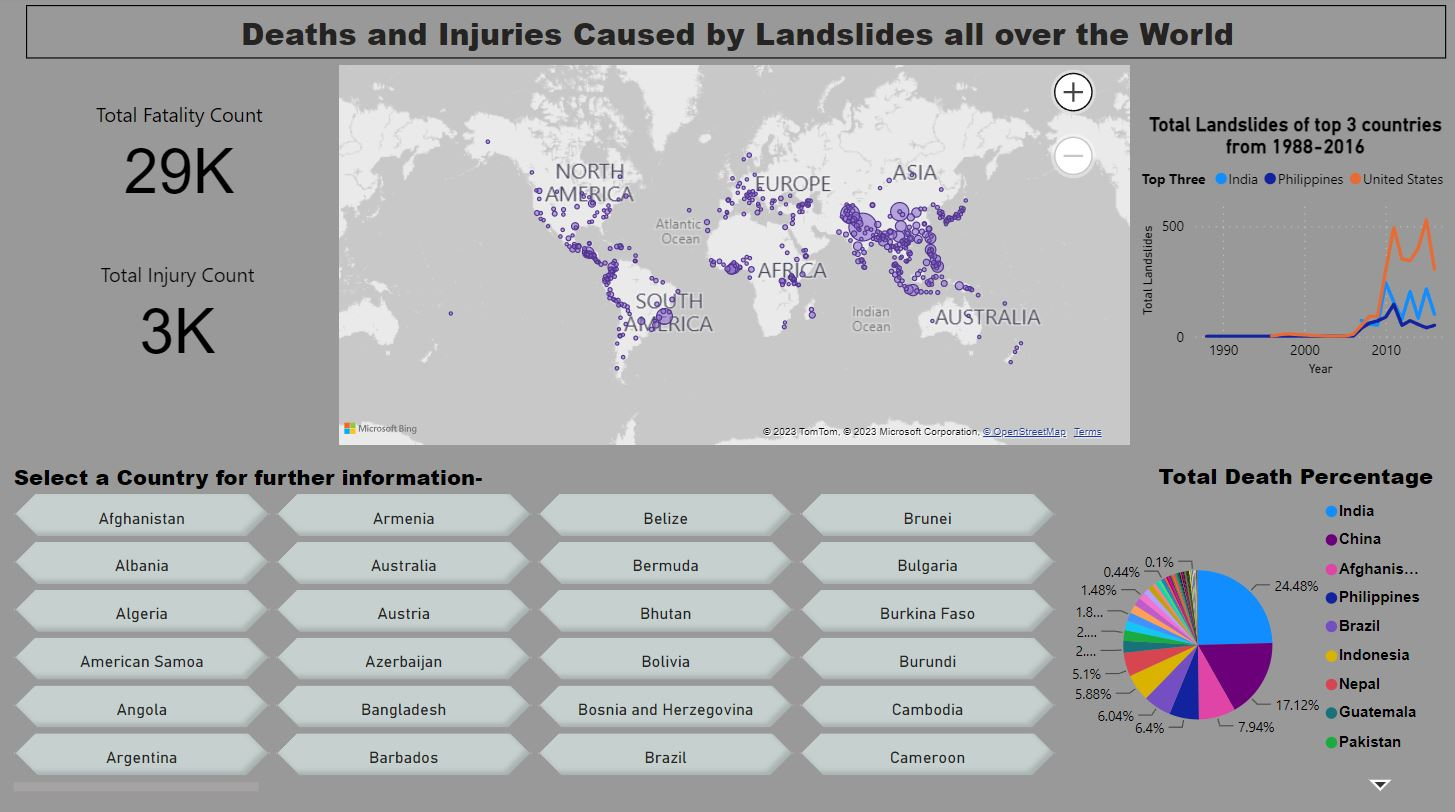

This screenshot's page, from the dashboard's own definition file:
{"tool":"powerbi","page":{"name":"Global Landslide","canvas":[1280,720],"ordinal":0},"visuals":[{"type":"map","fields":{"Category":["Global_Landslide_Catalog_Export.admin_division_name"],"Size":["Sum(Global_Landslide_Catalog_Export.fatality_count)"]},"box":[295,54.4,705.1,344.2],"z":0},{"type":"cardVisual","fields":{"Data":["Sum(Global_Landslide_Catalog_Export.fatality_count)"]},"box":[25.6,57.2,269.2,162.7],"z":1000},{"type":"cardVisual","fields":{"Data":["Sum(Global_Landslide_Catalog_Export.injury_count)"]},"box":[21.7,197.2,273.2,162.7],"z":2000},{"type":"pieChart","title":"Total Death Percentage","fields":{"Y":["Sum(Global_Landslide_Catalog_Export.fatality_count)"],"Category":["Global_Landslide_Catalog_Export.country_name"]},"box":[938.6,406.5,327.5,297.7],"z":3000},{"type":"advancedSlicerVisual","title":"Select a Country for further information-","fields":{"Values":["Global_Landslide_Catalog_Export.country_name"]},"box":[9.9,407.3,928.9,297.8],"z":4000},{"type":"textbox","box":[25.6,6.9,1247.5,47.3],"z":5000},{"type":"lineChart","title":"Total Landslides of top 3 countries from 1988-2016","fields":{"Category":["Global_Landslide_Catalog_Export.event_date.Variation.Date Hierarchy.Year"],"Y":["CountNonNull(Global_Landslide_Catalog_Export.event_id)"],"Series":["Global_Landslide_Catalog_Export.country_name"]},"box":[1000.1,101.9,280.1,235.3],"z":6000}]}

Visuals, with their boxes in screenshot pixels (x1, y1, x2, y2), scaled from the page's 1280x720 canvas onto the 1455x812 screenshot:
map - Global_Landslide_Catalog_Export.admin_division_name x Sum(Global_Landslide_Catalog_Export.fatality_count): <region>335, 61, 1137, 450</region>
cardVisual - Sum(Global_Landslide_Catalog_Export.fatality_count): <region>29, 65, 335, 248</region>
cardVisual - Sum(Global_Landslide_Catalog_Export.injury_count): <region>25, 222, 335, 406</region>
"Total Death Percentage" pieChart: <region>1067, 458, 1439, 794</region>
"Select a Country for further information-" advancedSlicerVisual: <region>11, 459, 1067, 795</region>
textbox: <region>29, 8, 1447, 61</region>
"Total Landslides of top 3 countries from 1988-2016" lineChart: <region>1137, 115, 1454, 380</region>
